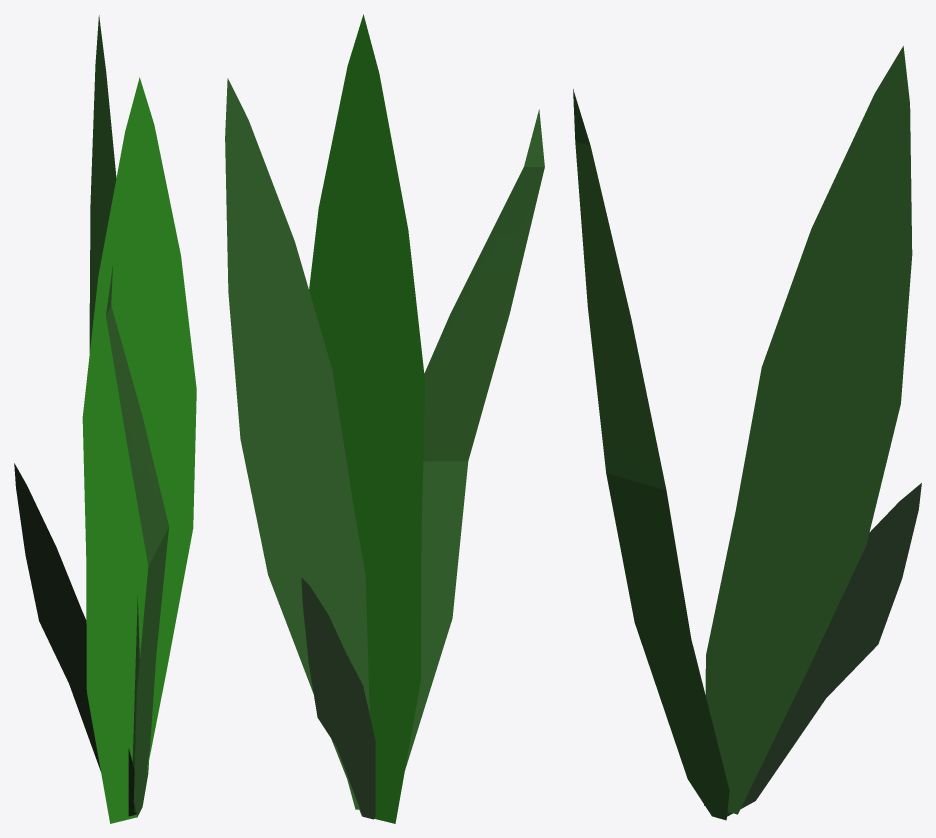
Rendered from SM_Prop_cesped basico .fbx.
The picture shows the model from 3 angles, left to right: view 1: azimuth 30°, elevation 25°; view 2: azimuth 150°, elevation 25°; view 3: azimuth 270°, elevation 25°; orthographic projection. The views are drawn at different scales.
Visible parts, largest first — view 1: cesped; view 2: cesped; view 3: cesped.
Boxes of the visible parts, x1,y1,x2,y2 form: cesped: [14, 15, 196, 823]; cesped: [225, 14, 544, 823]; cesped: [573, 46, 921, 820].
Bounding box in the file's own units: 34.22 × 153 × 59.85.
1 material, 1 textured.
